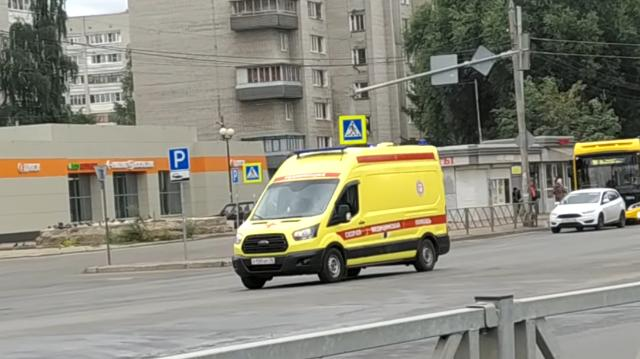intensive care unit: (234, 150, 453, 291)
non emergency car: (574, 140, 640, 229), (551, 191, 629, 236)
